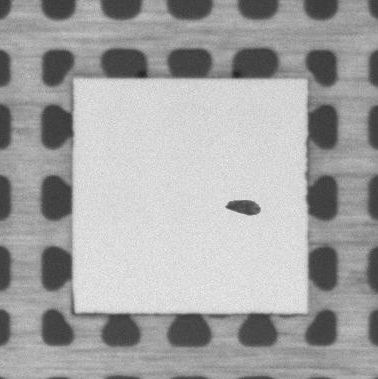DIE_INK: (221, 198, 262, 218)
